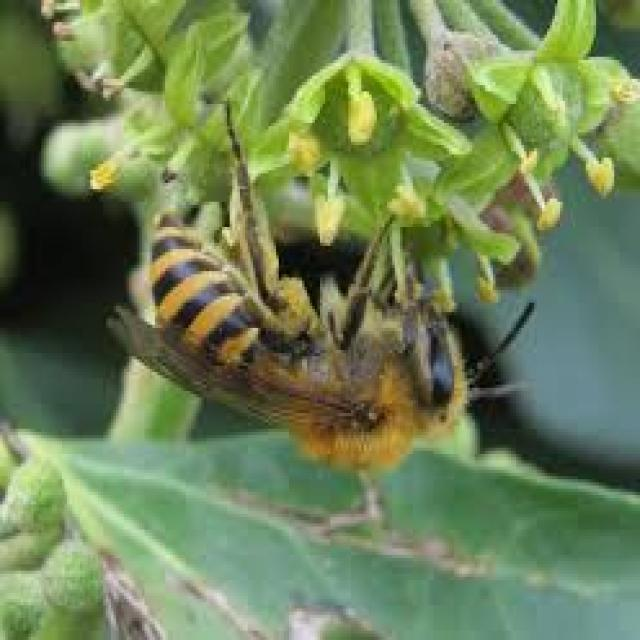Bees: (105, 99, 535, 477)
